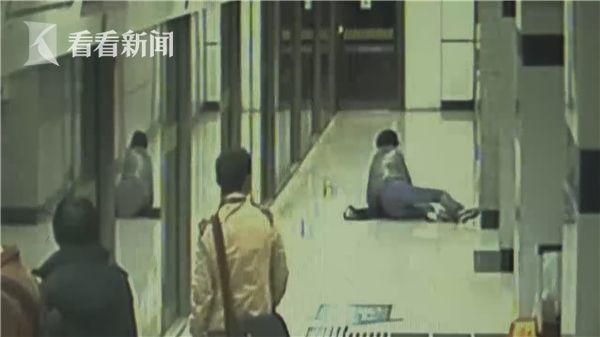Fall-Detected: (98, 126, 161, 217)
